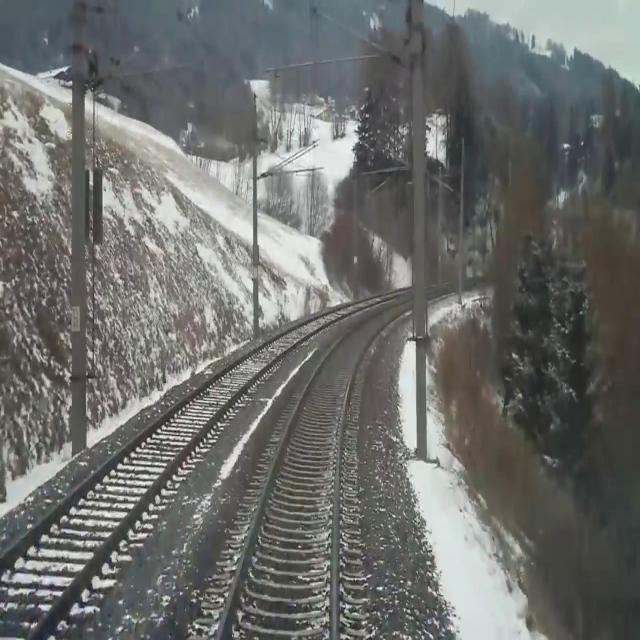rail-track: (0, 295, 388, 635), (222, 299, 413, 639)
